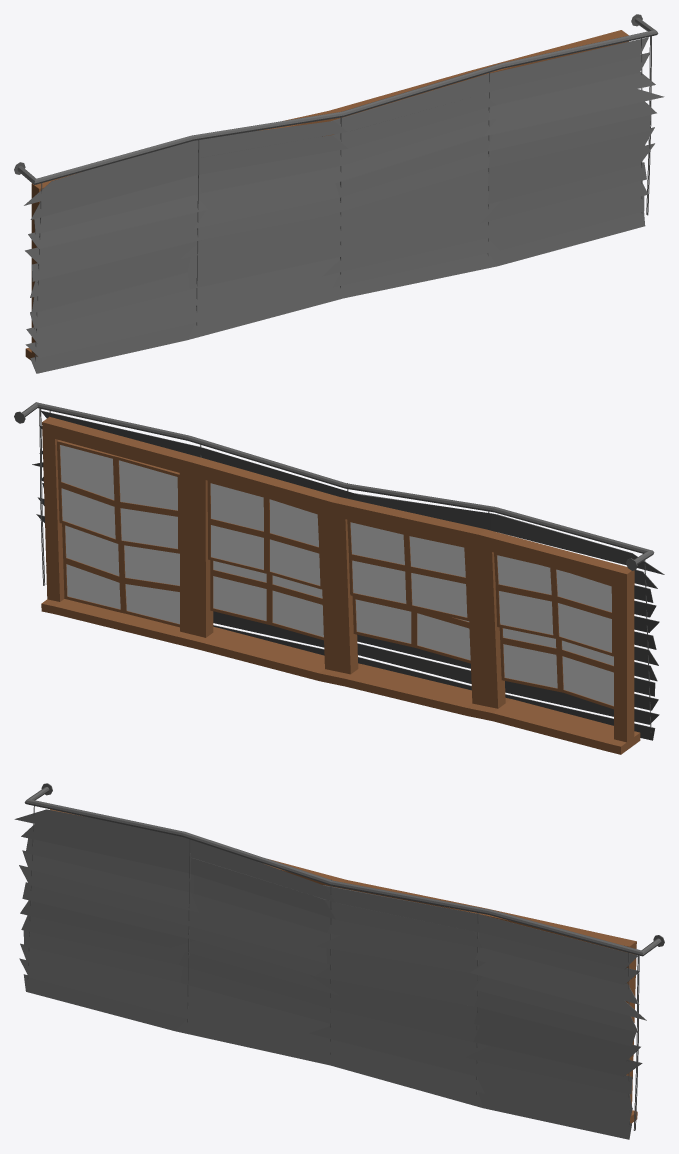
Rendered from Window.fbx.
The picture shows the model from 3 angles, top to bottom: view 1: azimuth 30°, elevation 25°; view 2: azimuth 150°, elevation 25°; view 3: azimuth 330°, elevation 25°; orthographic projection.
Parts seen in each view (by area): view 1: Blinds; view 2: Blinds; view 3: Blinds.
Boxes of the visible parts, x1,y1,x2,y2 form: Blinds: (14, 14, 664, 373); Blinds: (14, 402, 664, 754); Blinds: (14, 783, 664, 1139).
Size of the model in its own units: 3114 by 946 by 193.
